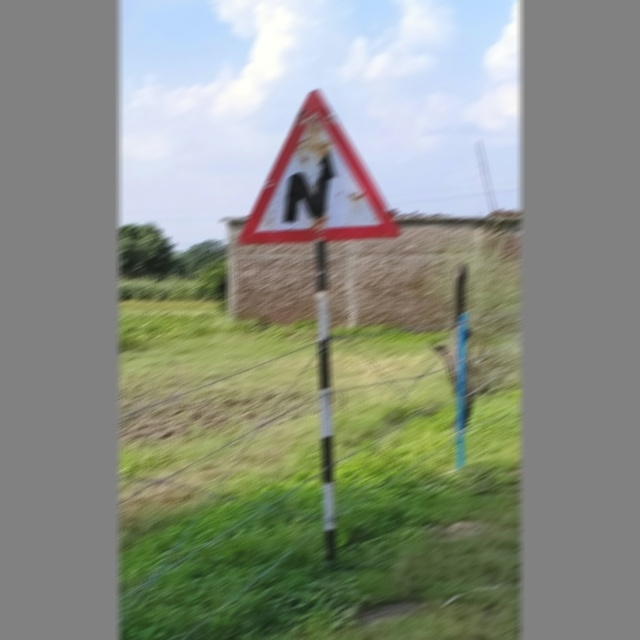Right_Reverse_Bend: (241, 90, 394, 241)
